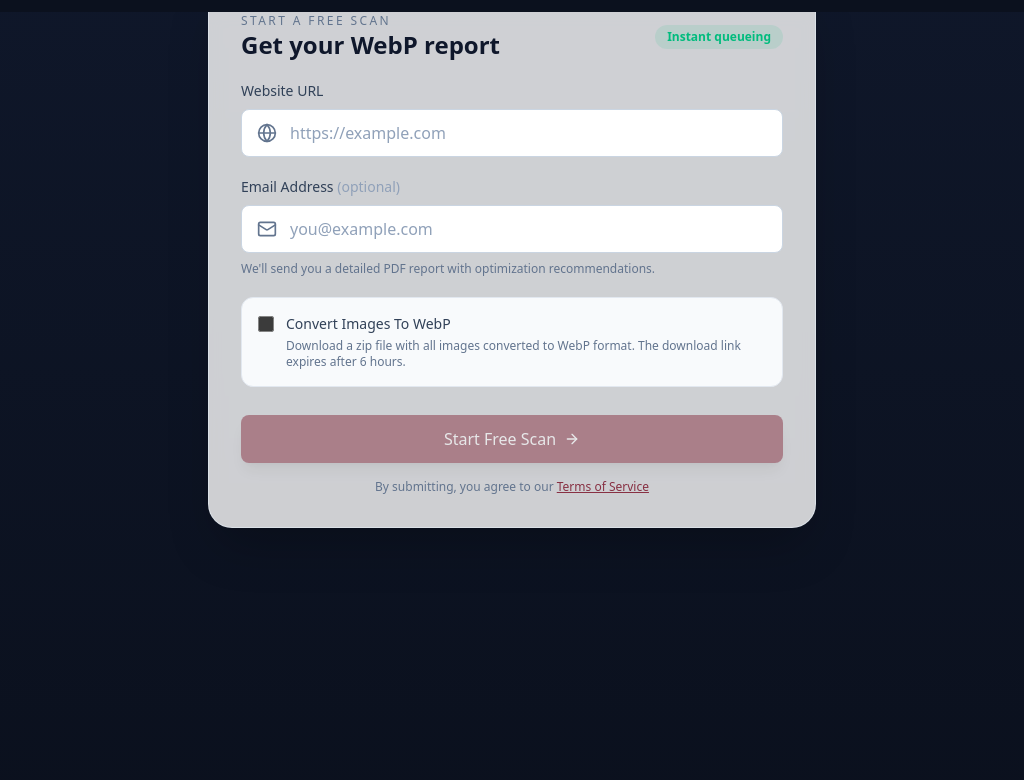
Test: ScanForm › URL Validation - UI Integration › should show error when URL is empty on blur
Click the field labelled "Website URL": (512, 133) 241,109 -> 783,157
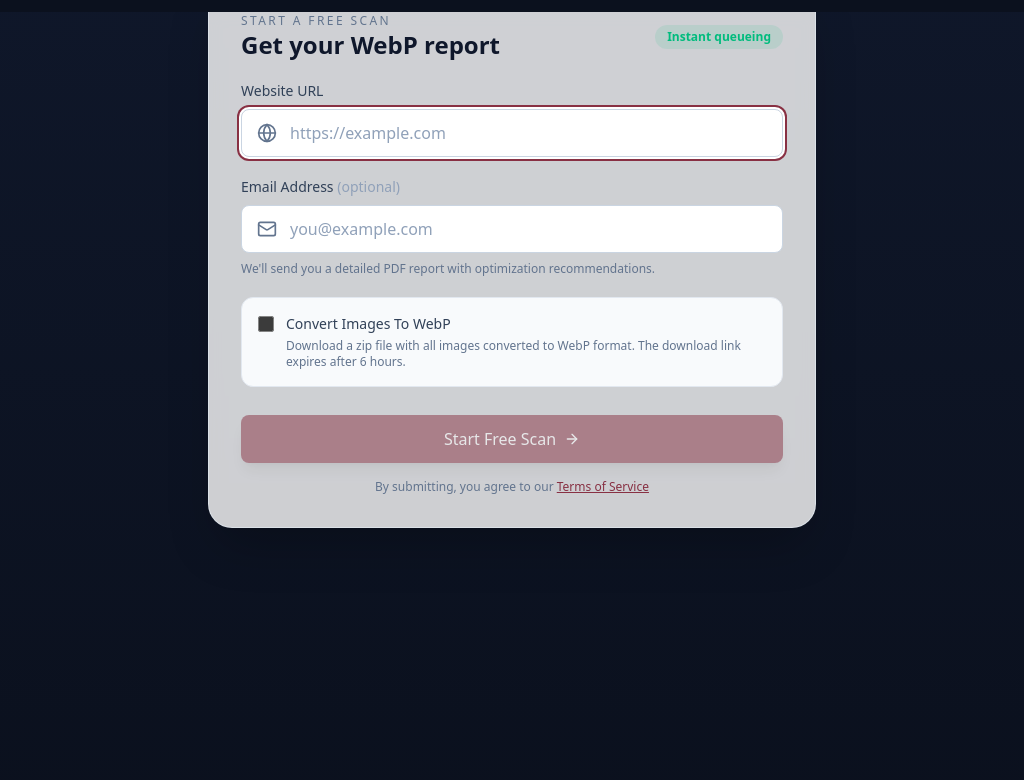
Press Tab
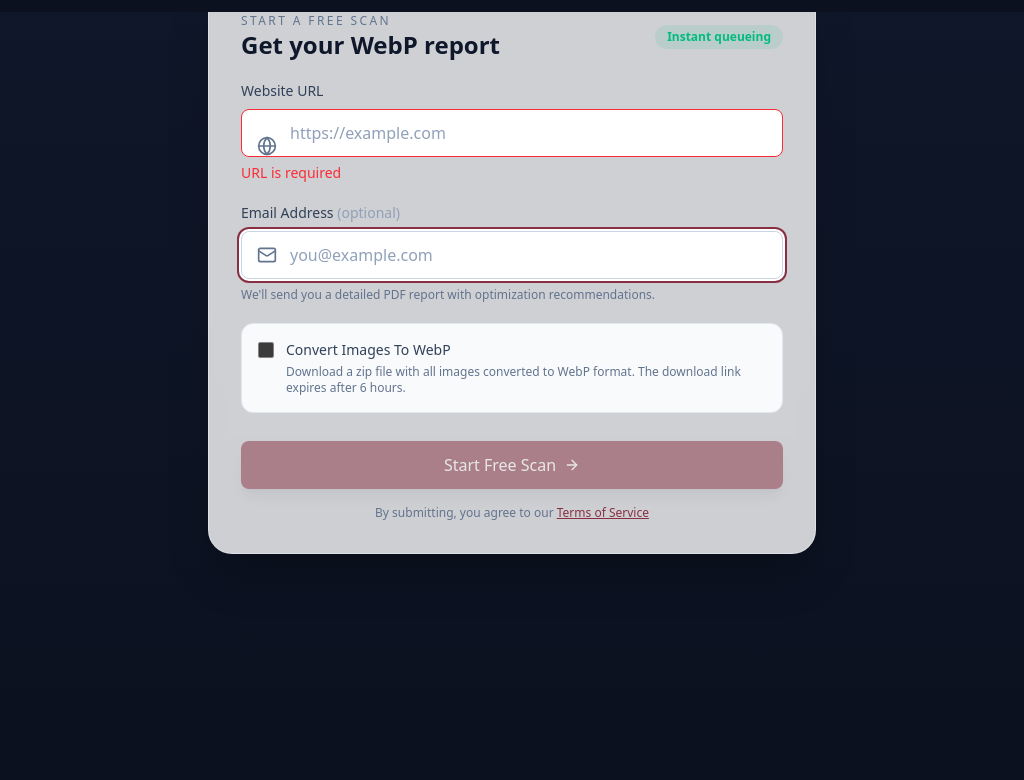
Expected: the text "URL is required" is shown, 241,163 -> 341,182
